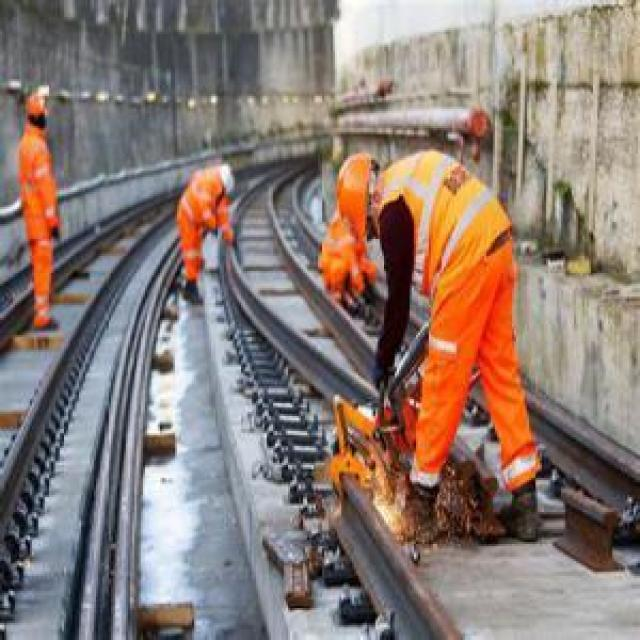rail: (1, 145, 640, 640)
